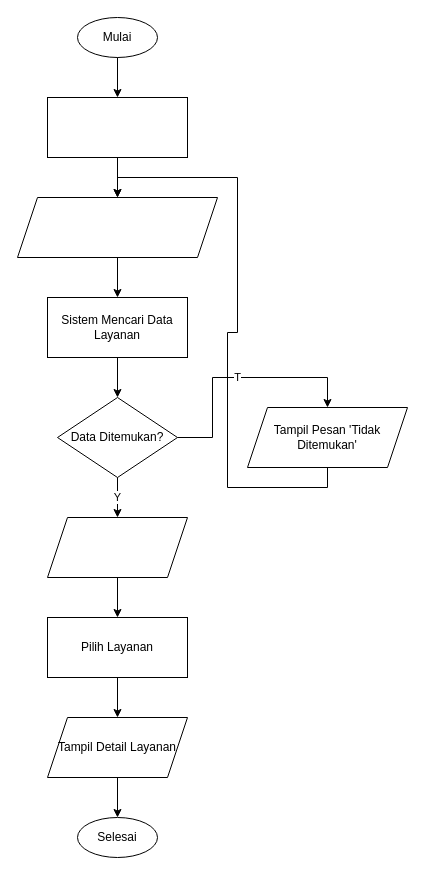
This 425x875 diagram has some shape labels left out. Each missing label, with the centre of its shape:
Halaman Katalog / Cari: the point at 117,127
Input Kata Kunci / Pilih Kategori: the point at 117,227
Tampilkan Daftar Layanan: the point at 117,547
